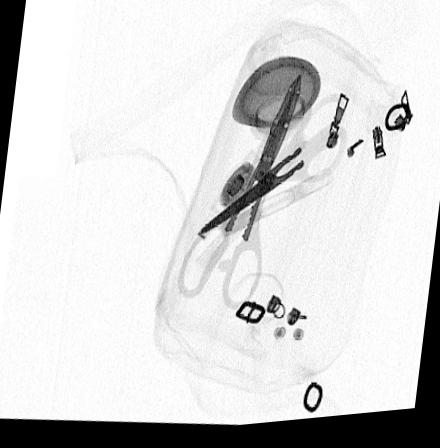Scissors: (174, 73, 307, 318), (196, 98, 349, 244)
